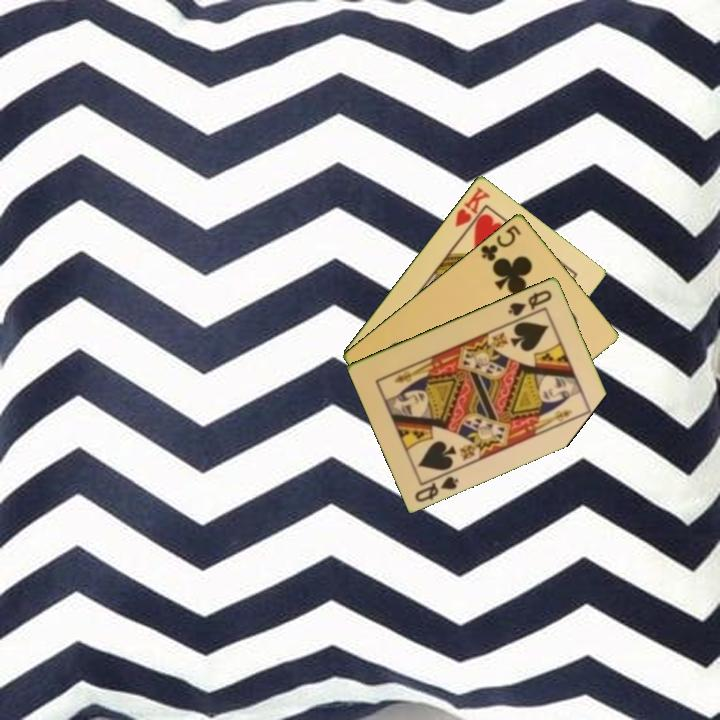5c: (477, 221, 524, 264)
Kh: (451, 182, 493, 237)
Qs: (504, 286, 555, 319), (411, 472, 462, 505)
